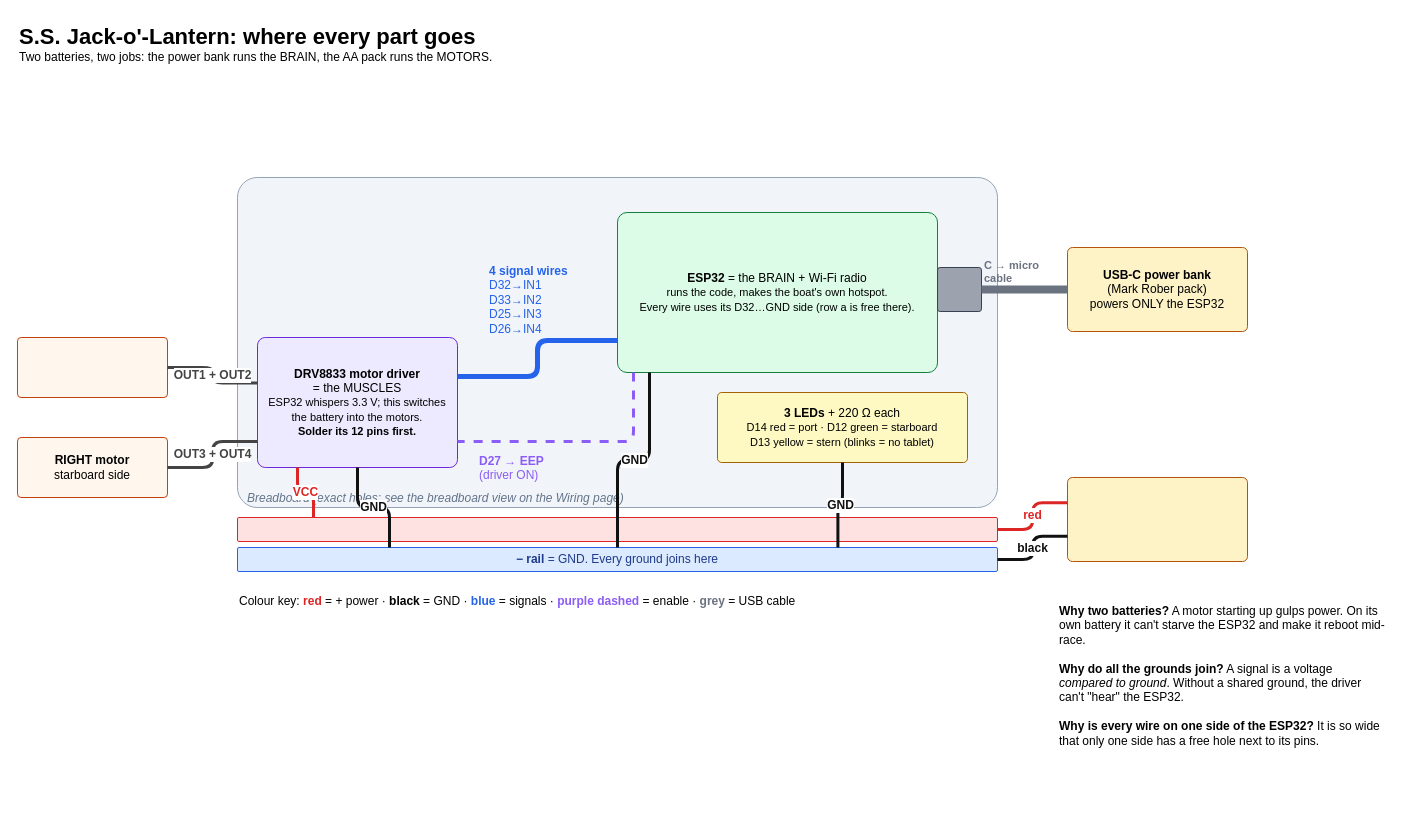
Image size: 1405x834. Some labels were removed from this diagram. The shapes that lost their labels are listed below. From the top down, each one's centre as x and y in pixels, then its label:
At [959,289]: "micro USB".
At [92,367]: "LEFT motor port side".
At [617,529]: "+ rail (motor battery +)".
At [1157,519]: "8×AA holder + switch 6 AA + 2 dummies = 9 V switch = motor kill switch".
